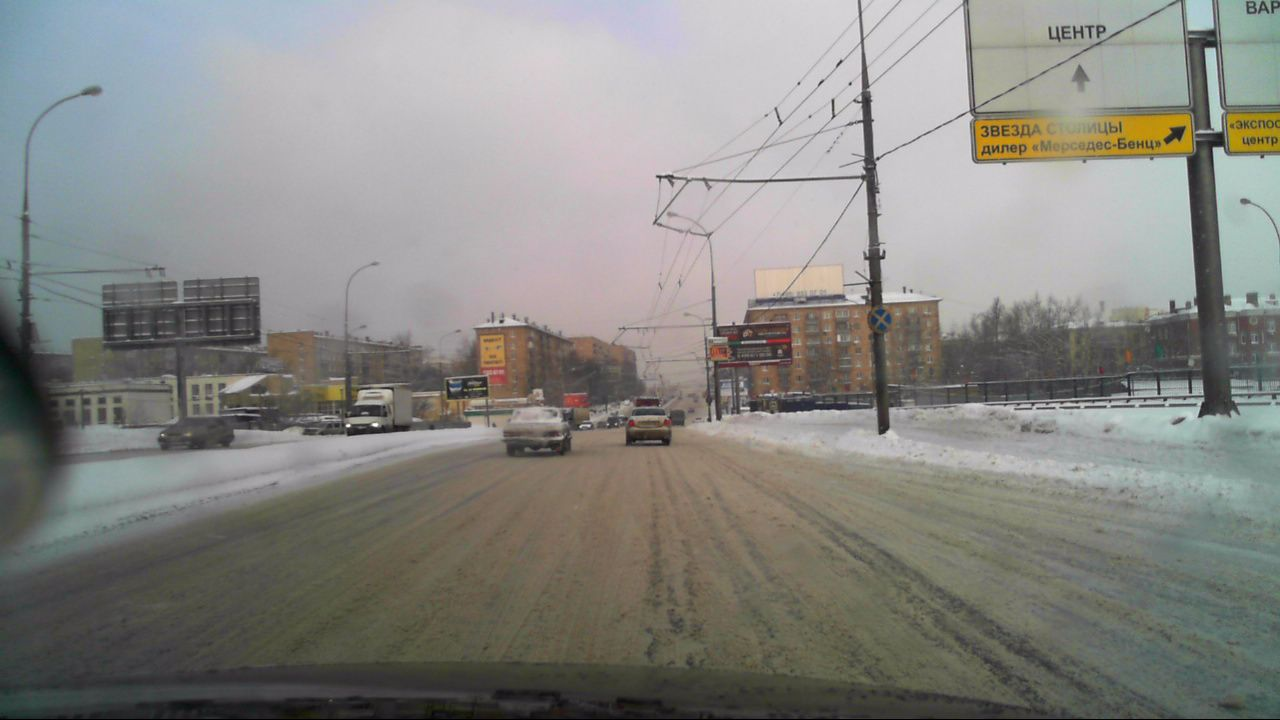No Parking: (865, 305, 894, 335)
